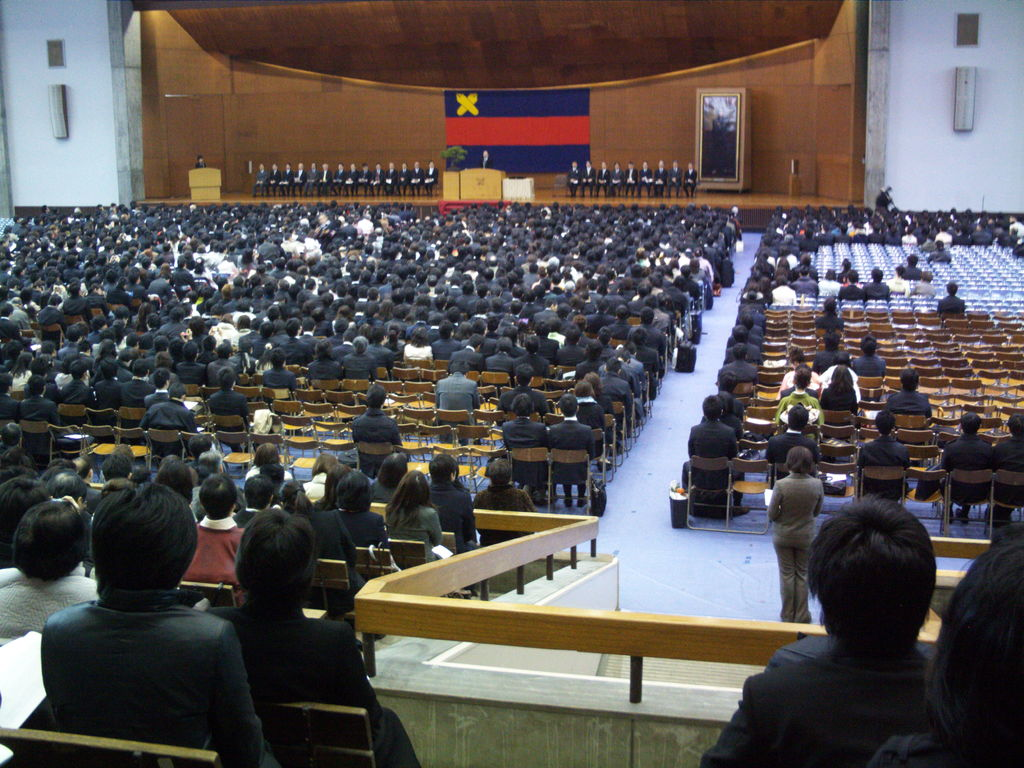Person: (250, 158, 435, 197), (566, 159, 696, 196), (472, 144, 497, 170), (194, 149, 210, 166)
